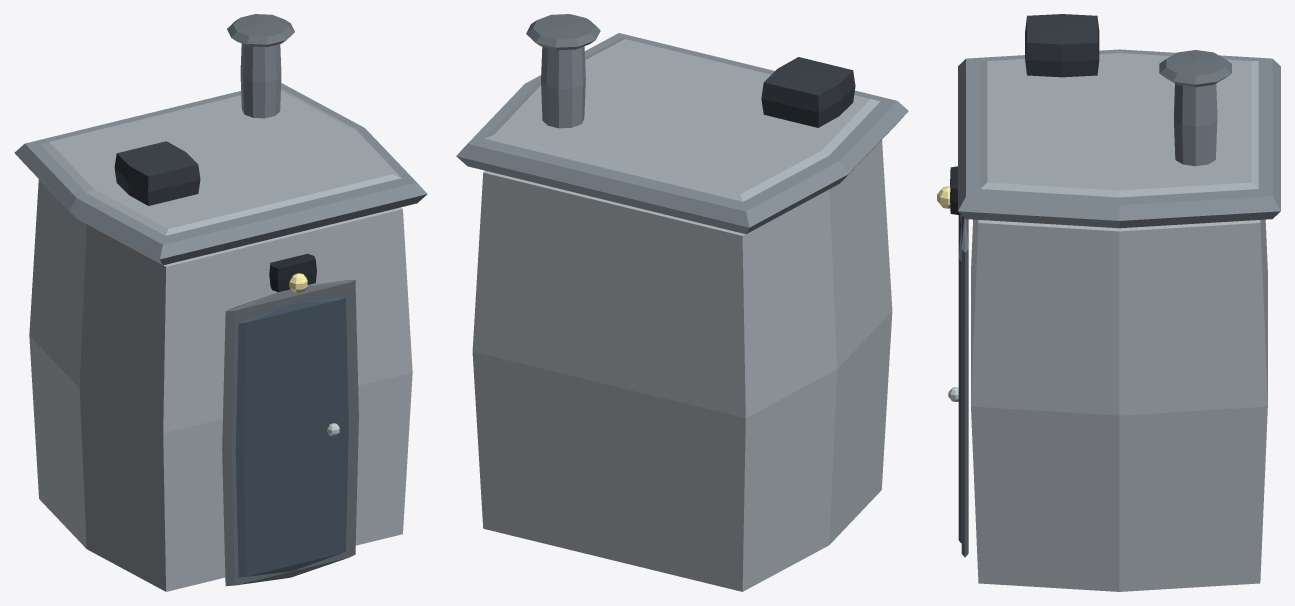
File: r-hut.glb
3 renders of one model, left to right at view 1: azimuth 30°, elevation 25°; view 2: azimuth 150°, elevation 25°; view 3: azimuth 270°, elevation 25°, orthographic. The views are drawn at different scales.
Parts seen in each view (by area): view 1: p; view 2: p; view 3: p.
Part boxes in pixels (bbox=[...]): p: bbox=[14, 14, 427, 591]; p: bbox=[456, 14, 908, 591]; p: bbox=[937, 14, 1280, 591].
Bounding box in the file's own units: 2.04 × 2.95 × 1.8.
